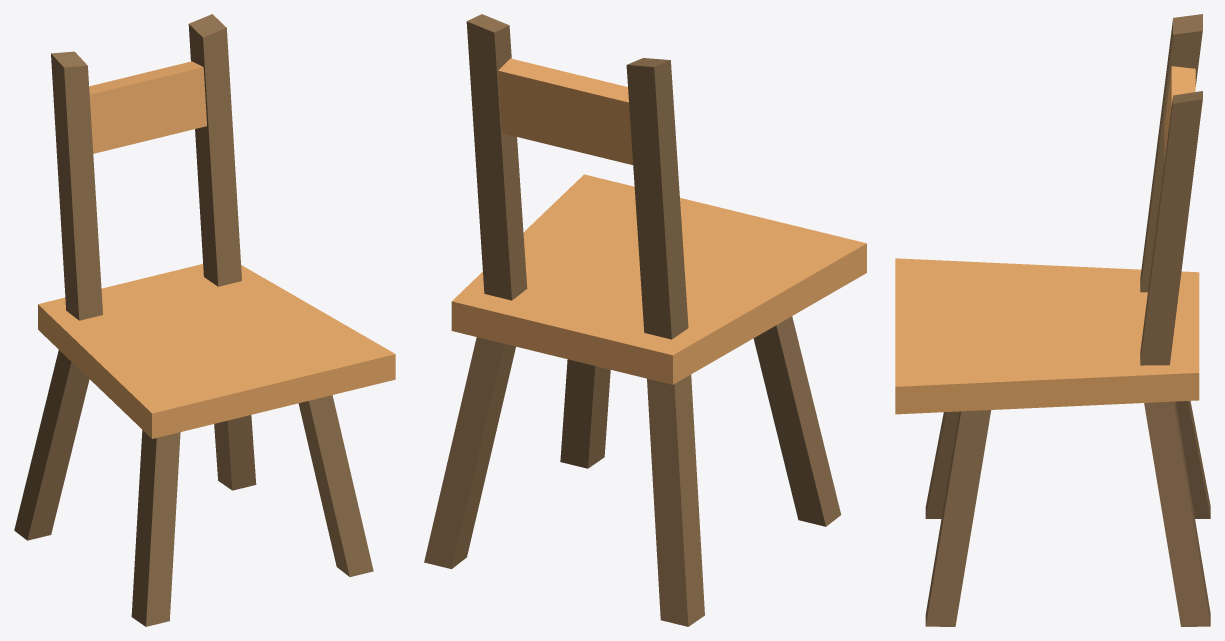
The model's file is Chair.fbx.
The picture shows the model from 3 angles, left to right: view 1: azimuth 30°, elevation 25°; view 2: azimuth 150°, elevation 25°; view 3: azimuth 270°, elevation 25°; orthographic projection. The views are drawn at different scales.
Visible parts, largest first — view 1: Chair; view 2: Chair; view 3: Chair.
Part boxes in pixels (bbox=[...]): Chair: bbox=[14, 14, 395, 626]; Chair: bbox=[424, 14, 866, 626]; Chair: bbox=[895, 14, 1210, 626].
Bounding box in the file's own units: 55.58 × 103 × 57.64.
